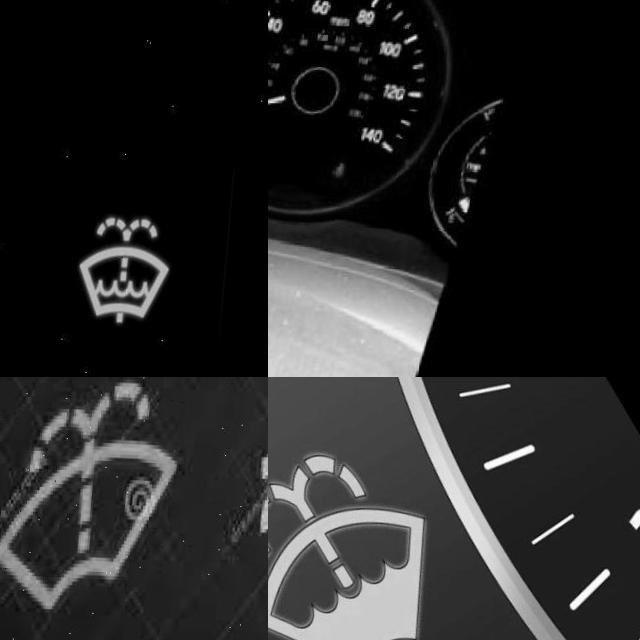Seat Belt: (338, 161, 356, 178)
Washer Fluid: (1, 377, 191, 610), (268, 450, 436, 640), (79, 214, 177, 321)
